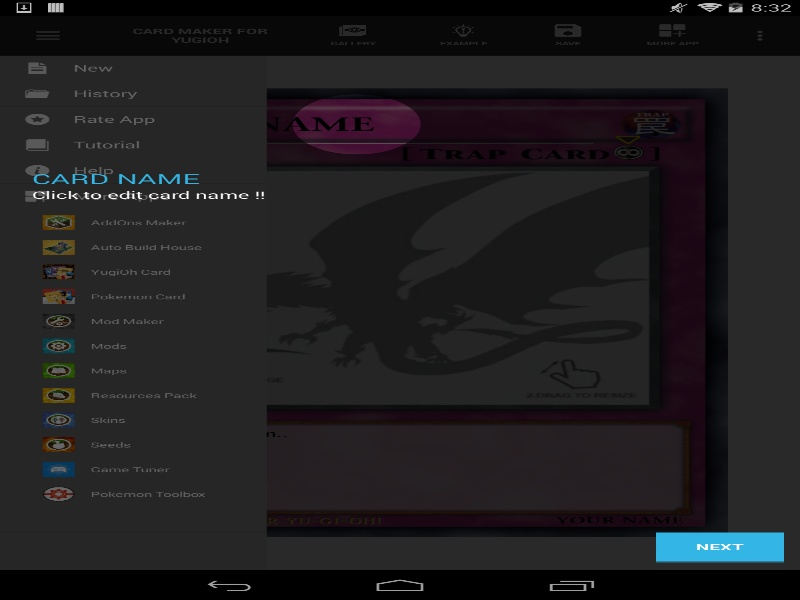Button: (656, 532, 784, 562), (10, 15, 85, 55)
Input: (114, 100, 598, 149)
